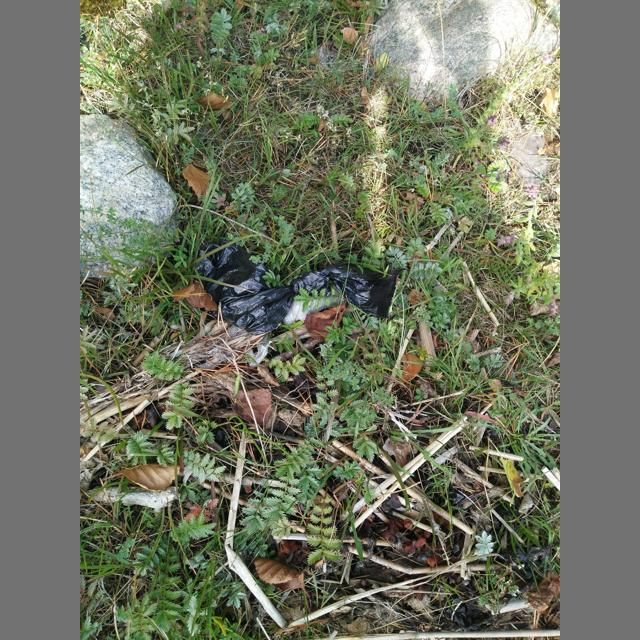litter: (194, 241, 406, 336), (283, 285, 344, 325), (219, 326, 270, 366)
